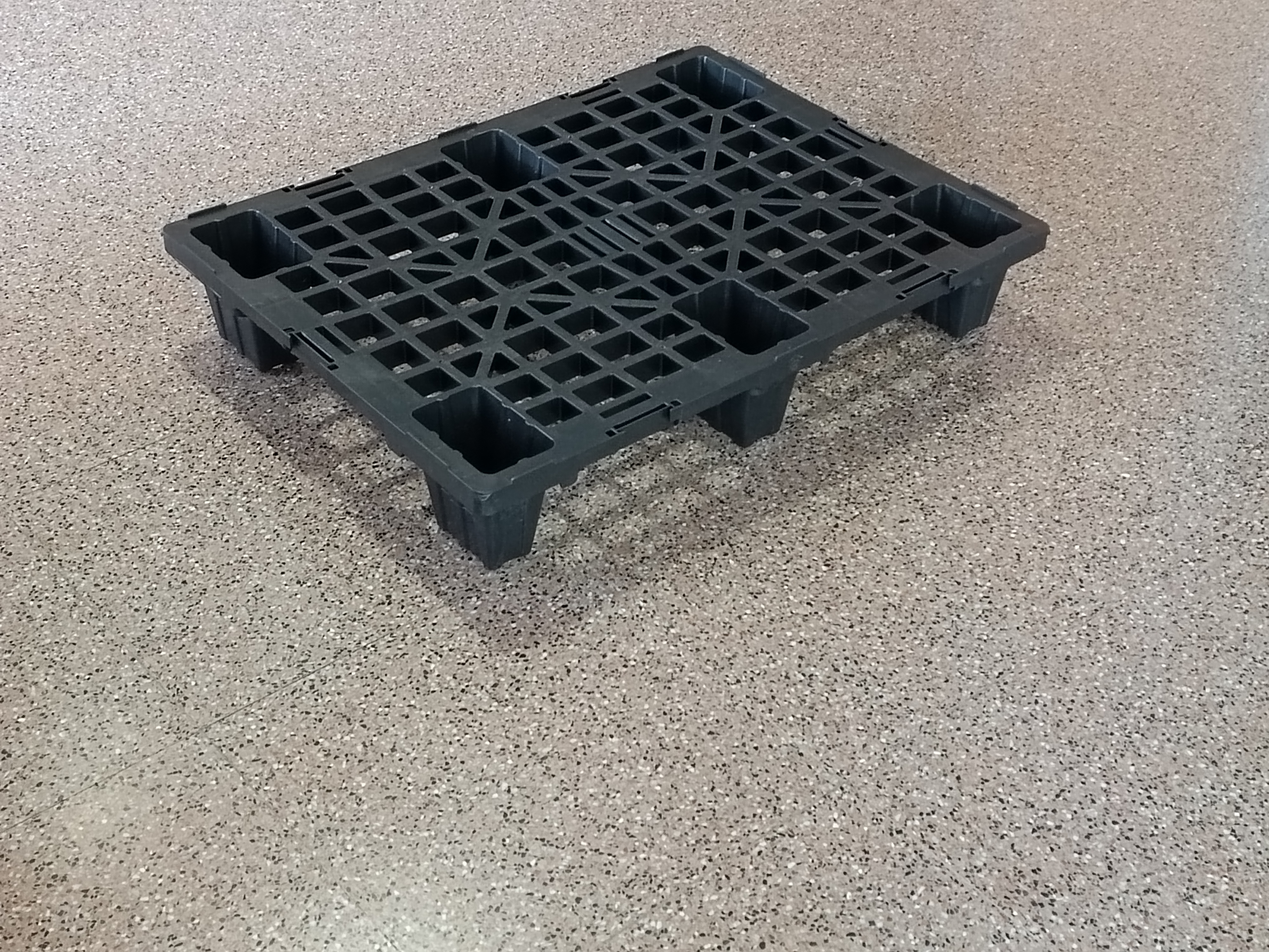block: (427, 473, 547, 569), (694, 377, 797, 450), (203, 286, 288, 373), (925, 266, 1009, 344)
front: (486, 230, 1052, 575)
hole pallet: (532, 391, 742, 553), (787, 288, 958, 435)
